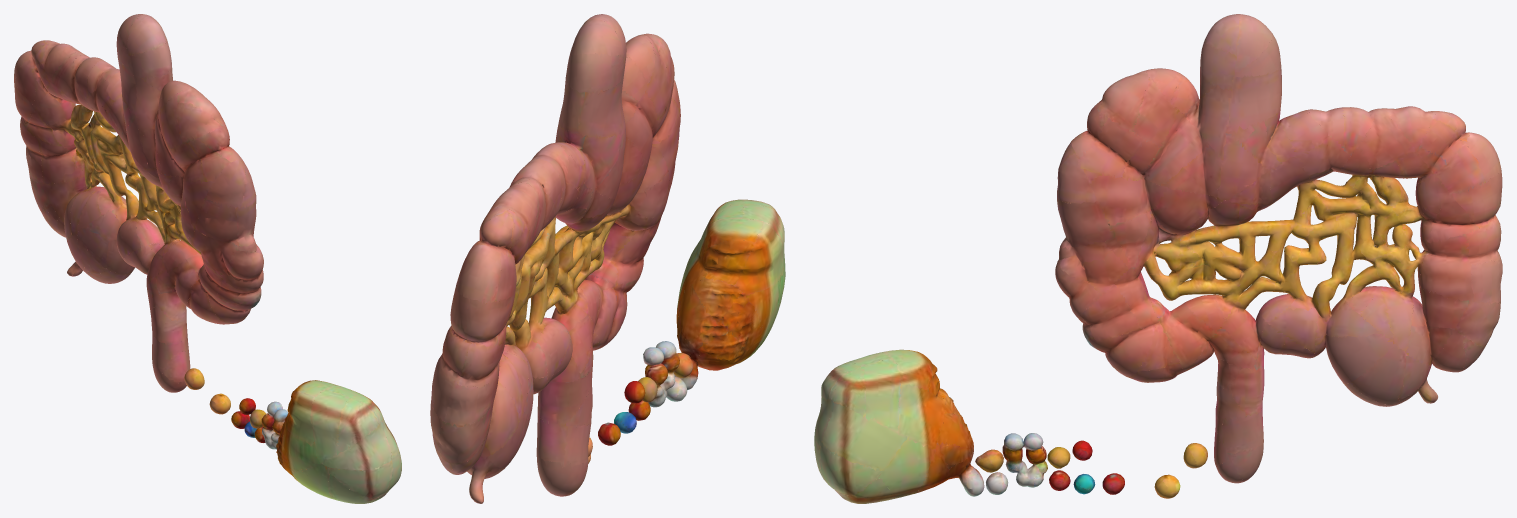
File: TreatmentCrohn.glb
The picture shows the model from 3 angles, left to right: view 1: azimuth 30°, elevation 25°; view 2: azimuth 150°, elevation 25°; view 3: azimuth 270°, elevation 25°; orthographic projection. The views are drawn at different scales.
Visible parts, largest first — view 1: Tratamiento; view 2: Tratamiento; view 3: Tratamiento.
Part boxes in pixels (bbox=[...]): Tratamiento: bbox=[14, 14, 401, 503]; Tratamiento: bbox=[430, 14, 785, 503]; Tratamiento: bbox=[814, 14, 1502, 503].
Size of the model in its own units: 0.4581 by 1.46 by 2.
1 material, 1 textured.
